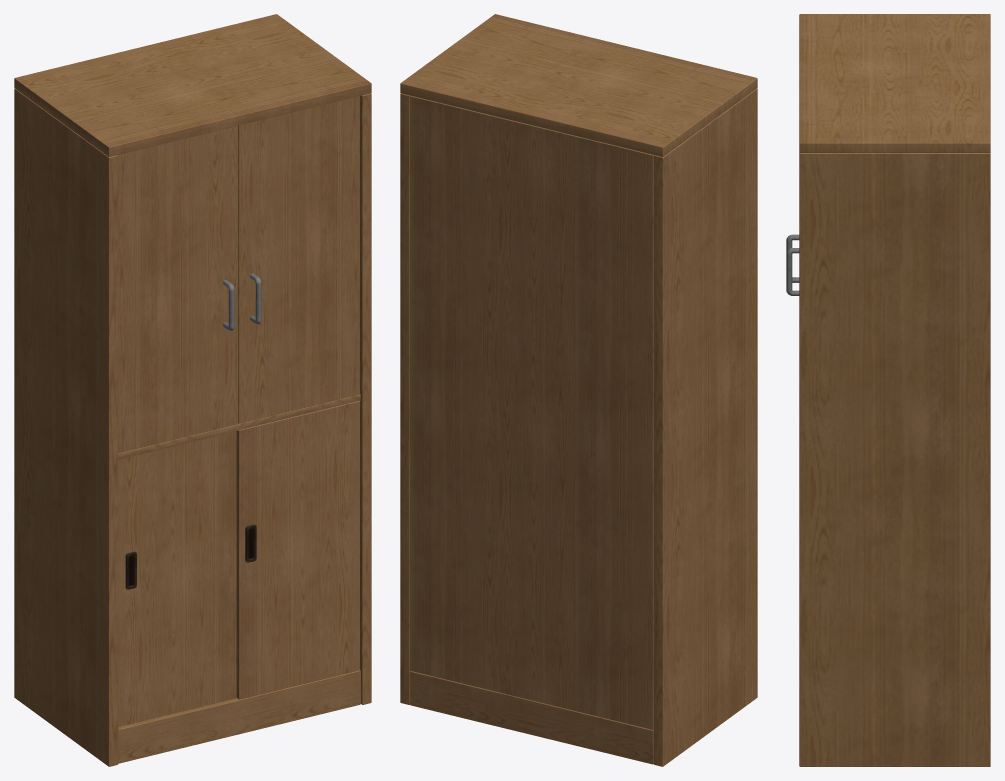
The model's file is Shelf_02_Narrow.FBX.
3 renders of one model, left to right at view 1: azimuth 30°, elevation 25°; view 2: azimuth 150°, elevation 25°; view 3: azimuth 270°, elevation 25°, orthographic.
Parts seen in each view (by area): view 1: Shelf_02_Narrow; view 2: Shelf_02_Narrow; view 3: Shelf_02_Narrow.
Part boxes in pixels (x1,y1,x2,y2): Shelf_02_Narrow: (14, 14, 371, 766); Shelf_02_Narrow: (400, 14, 757, 766); Shelf_02_Narrow: (786, 14, 990, 766).
Size of the model in its own units: 80 by 180 by 53.46.
